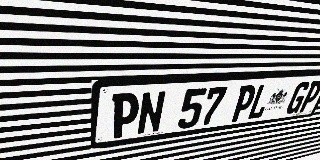5: (177, 88, 207, 130)
7: (198, 87, 228, 127)
G: (284, 81, 312, 114)
L: (246, 84, 275, 120)
N: (136, 90, 167, 135)
P: (110, 92, 141, 139), (229, 85, 258, 122), (297, 80, 320, 113)
